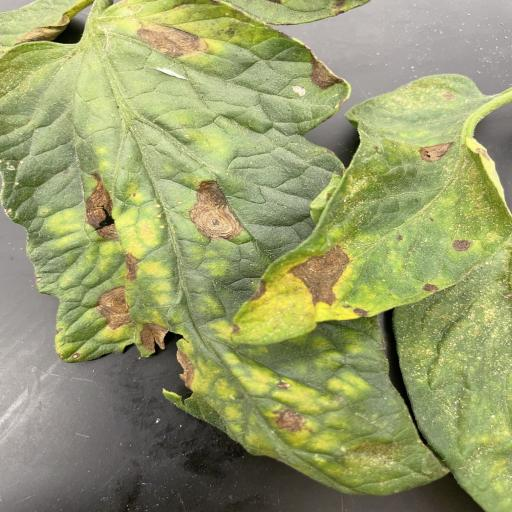disease_tomato: (0, 0, 455, 495), (228, 68, 512, 348)
